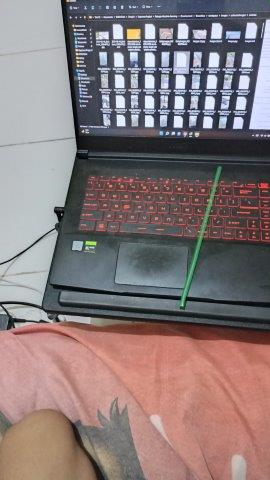sedotan: (180, 167, 221, 304)
